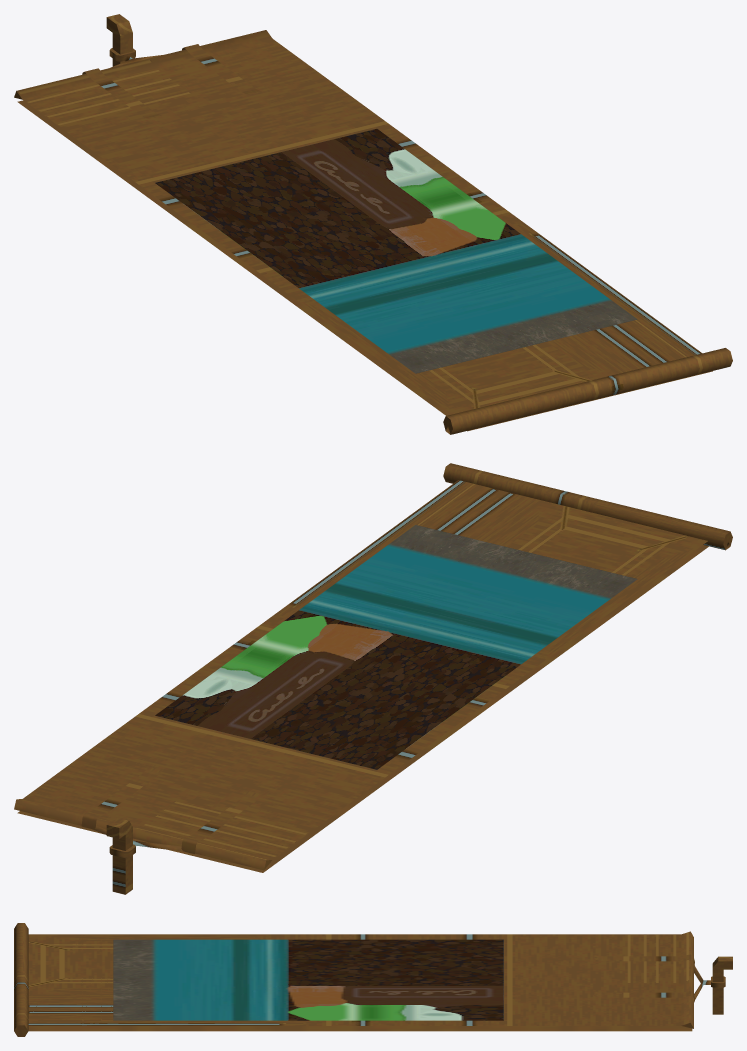
Rendered from art38.fbx.
The picture shows the model from 3 angles, top to bottom: view 1: azimuth 30°, elevation 25°; view 2: azimuth 150°, elevation 25°; view 3: azimuth 270°, elevation 25°; orthographic projection. The views are drawn at different scales.
Parts seen in each view (by area): view 1: BackFace__mFrame.001, Mikaeri__mBody; view 2: BackFace__mFrame.001, Mikaeri__mBody; view 3: BackFace__mFrame.001, Mikaeri__mBody.
Part boxes in pixels (bbox=[...]): BackFace__mFrame.001: bbox=[14, 14, 732, 434]; Mikaeri__mBody: bbox=[155, 128, 637, 373]; BackFace__mFrame.001: bbox=[14, 463, 732, 894]; Mikaeri__mBody: bbox=[155, 525, 637, 769]; BackFace__mFrame.001: bbox=[14, 923, 732, 1036]; Mikaeri__mBody: bbox=[113, 939, 503, 1020].
Size of the model in its own units: 160 by 38.93 by 475.
